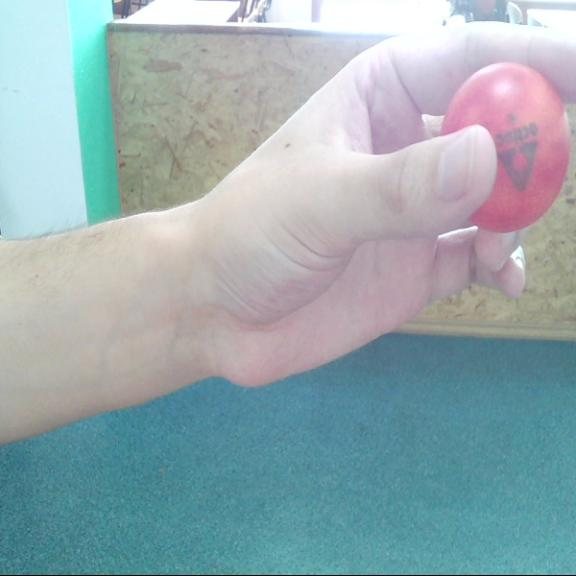ball: (442, 61, 568, 232)
